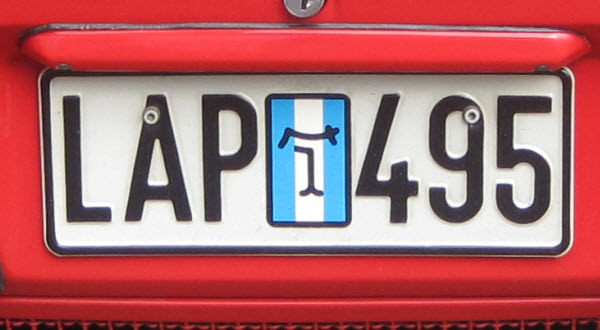license_plate: (43, 69, 572, 256)
